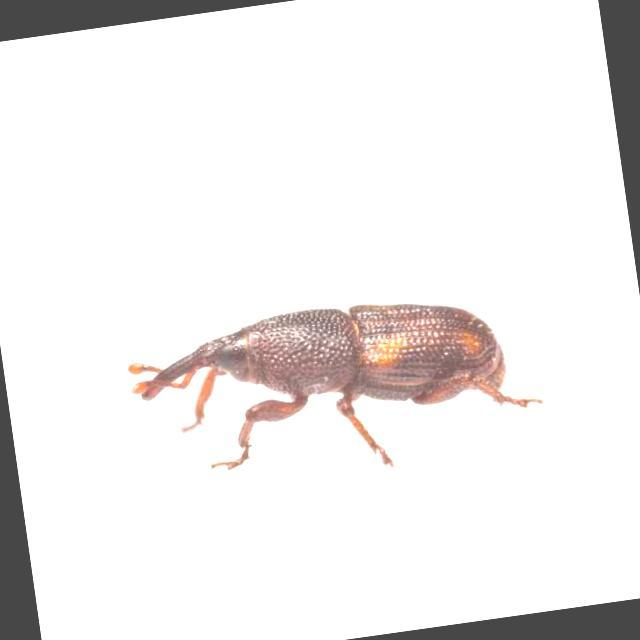ricebug: (130, 304, 540, 468)
